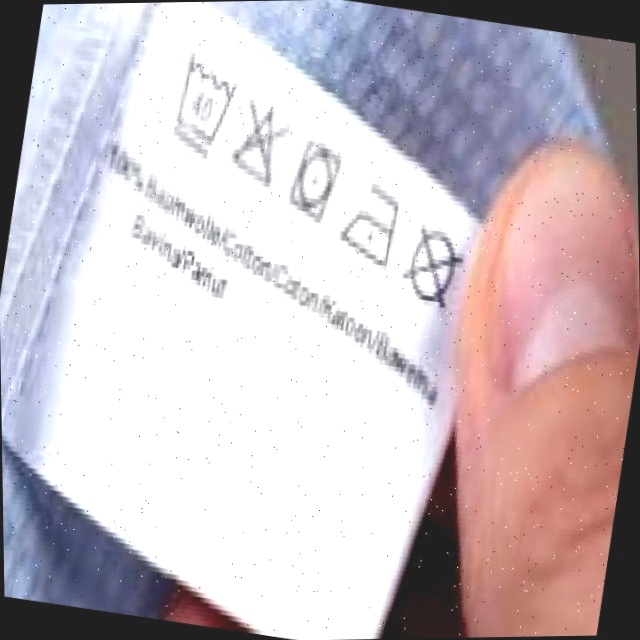40C: (156, 51, 245, 158)
DN_bleach: (222, 97, 297, 192)
DN_dry_clean: (394, 219, 472, 315)
iron_low: (334, 177, 410, 271)
tumble_dry_low: (281, 137, 348, 225)
